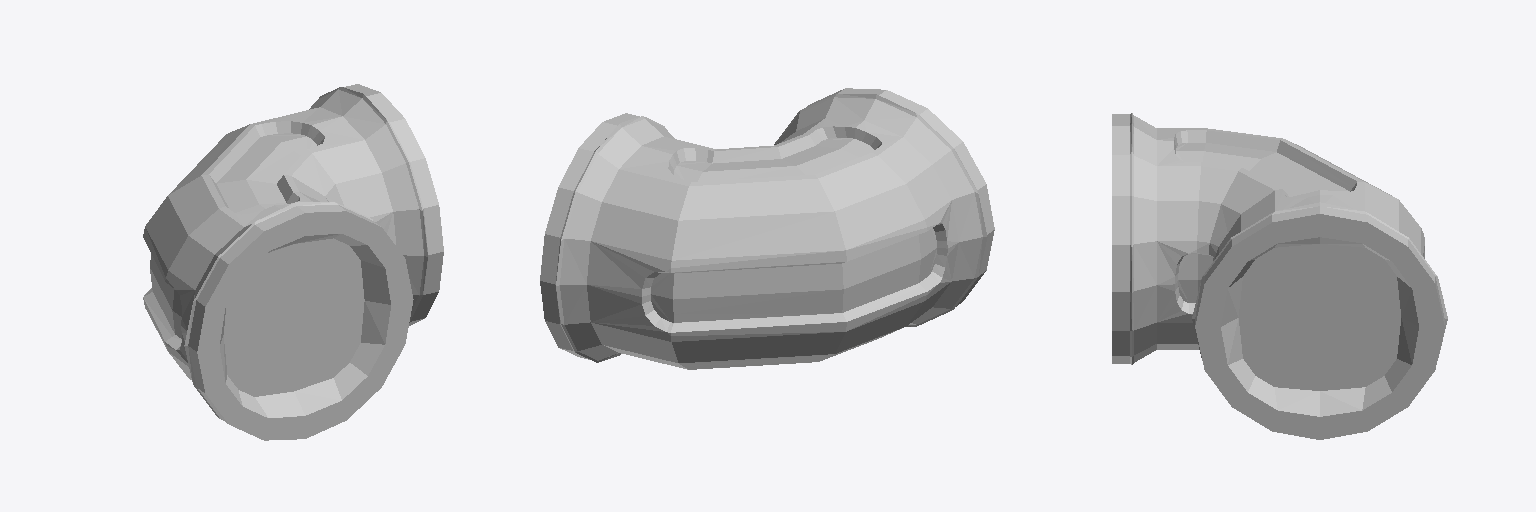
The model's file is Pipe_Elbow.obj.
3 renders of one model, left to right at view 1: azimuth 30°, elevation 25°; view 2: azimuth 150°, elevation 25°; view 3: azimuth 270°, elevation 25°, orthographic.
Visible parts, largest first — view 1: Cylinder; view 2: Cylinder; view 3: Cylinder.
Boxes of the visible parts, <box> form: Cylinder: <box>143,84,443,440</box>; Cylinder: <box>540,88,994,369</box>; Cylinder: <box>1112,113,1447,439</box>.
Bounding box in the file's own units: 0.8077 × 0.6156 × 0.8078.